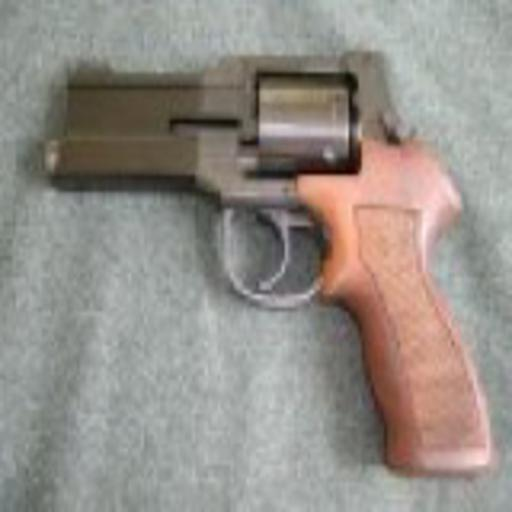Handgun: (40, 54, 498, 481)
